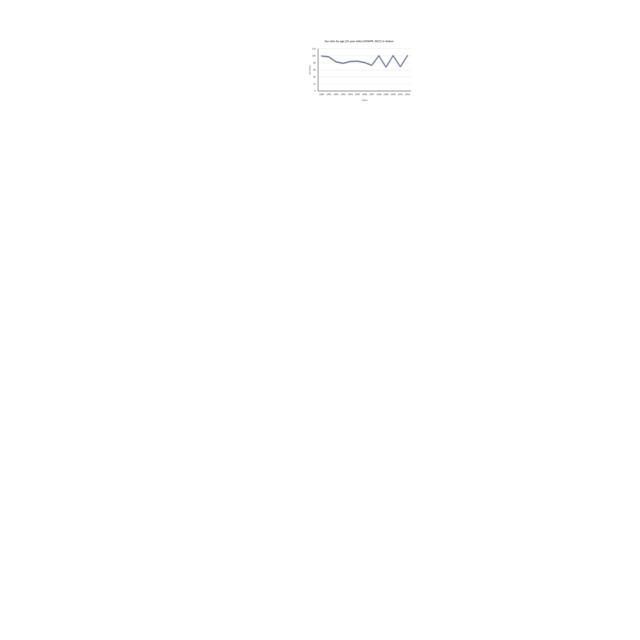Graph: (305, 38, 415, 103)
